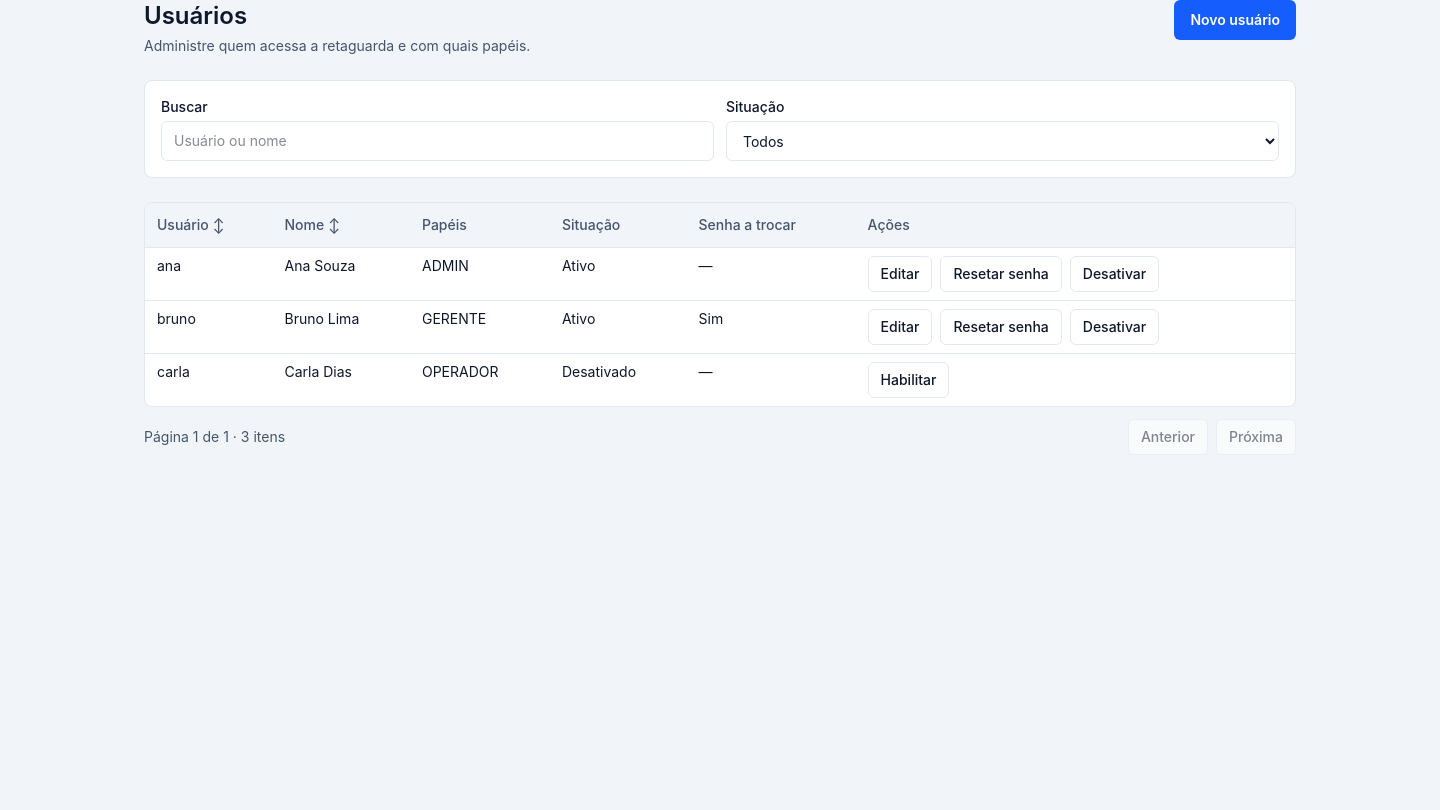
Test case: UsersPage — senha e sessões › exige 8 caracteres no reset e manda a nova senha
Expected: the cell "ana" is shown, [145, 248, 272, 300]
Click the button with aria-label "Resetar senha de ana" at (1001,274), box [940, 256, 1062, 292]
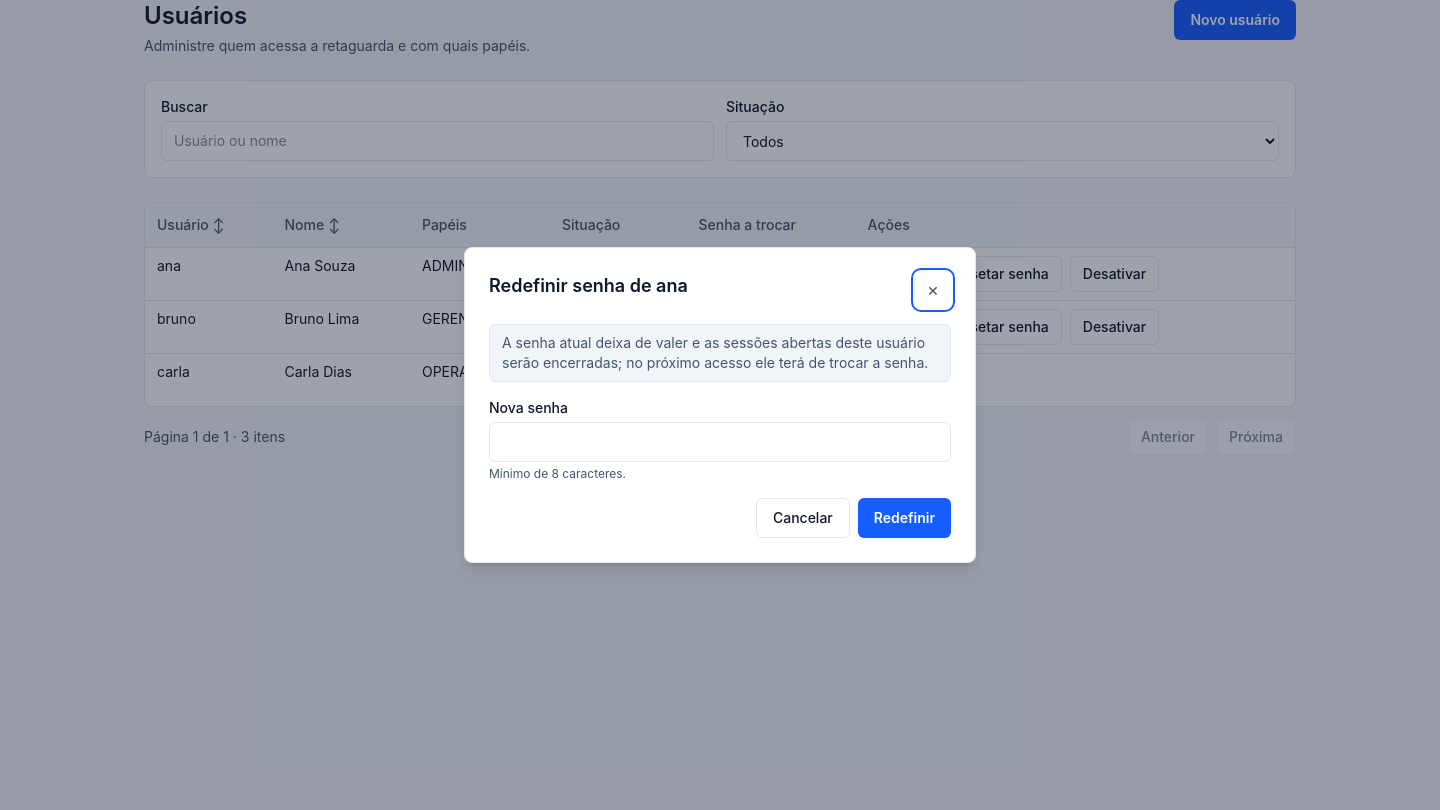
Type "1234567" into the password field labelled "Nova senha" at (720,442), box [489, 422, 951, 462]
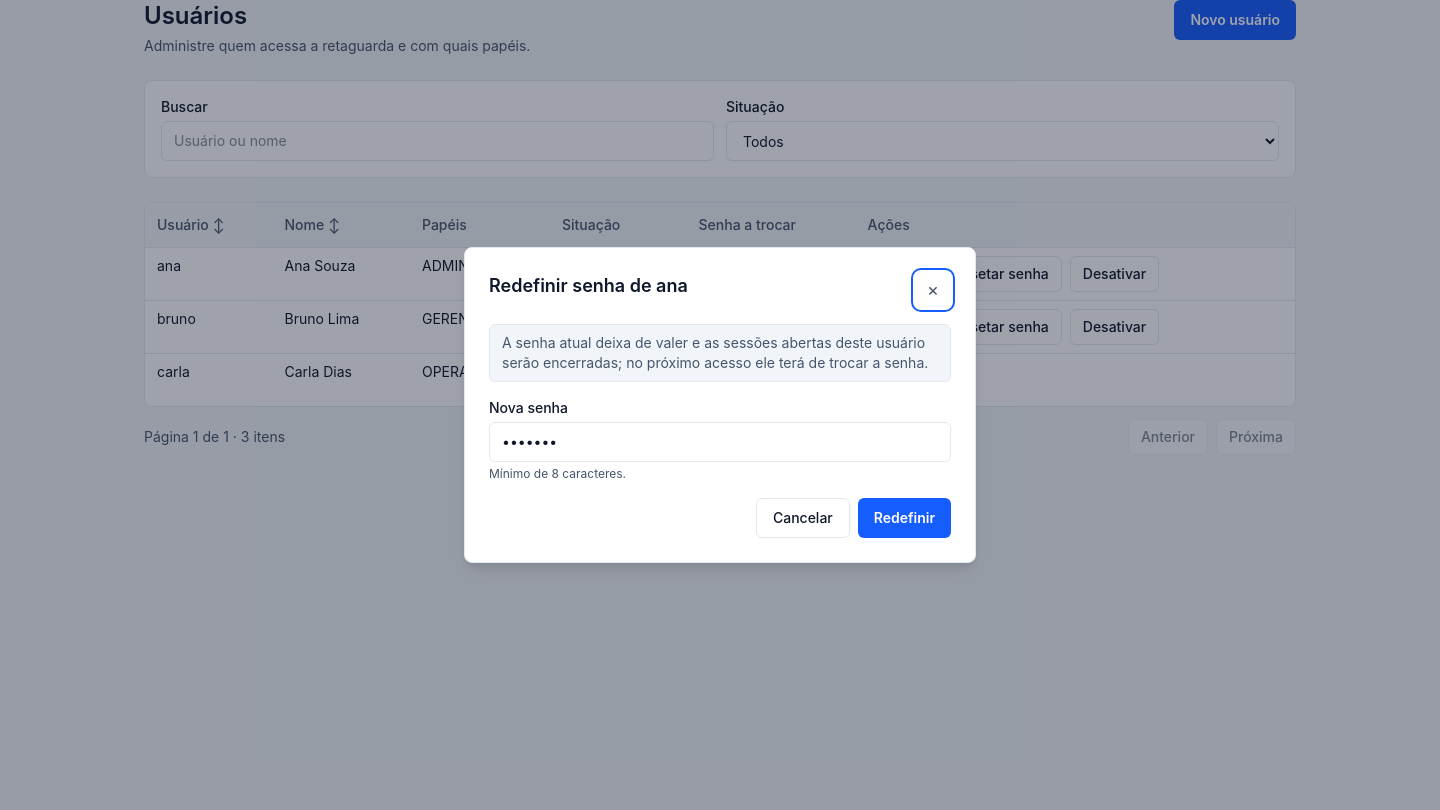
Click the button "Redefinir" at (904,518), box [858, 498, 951, 538]
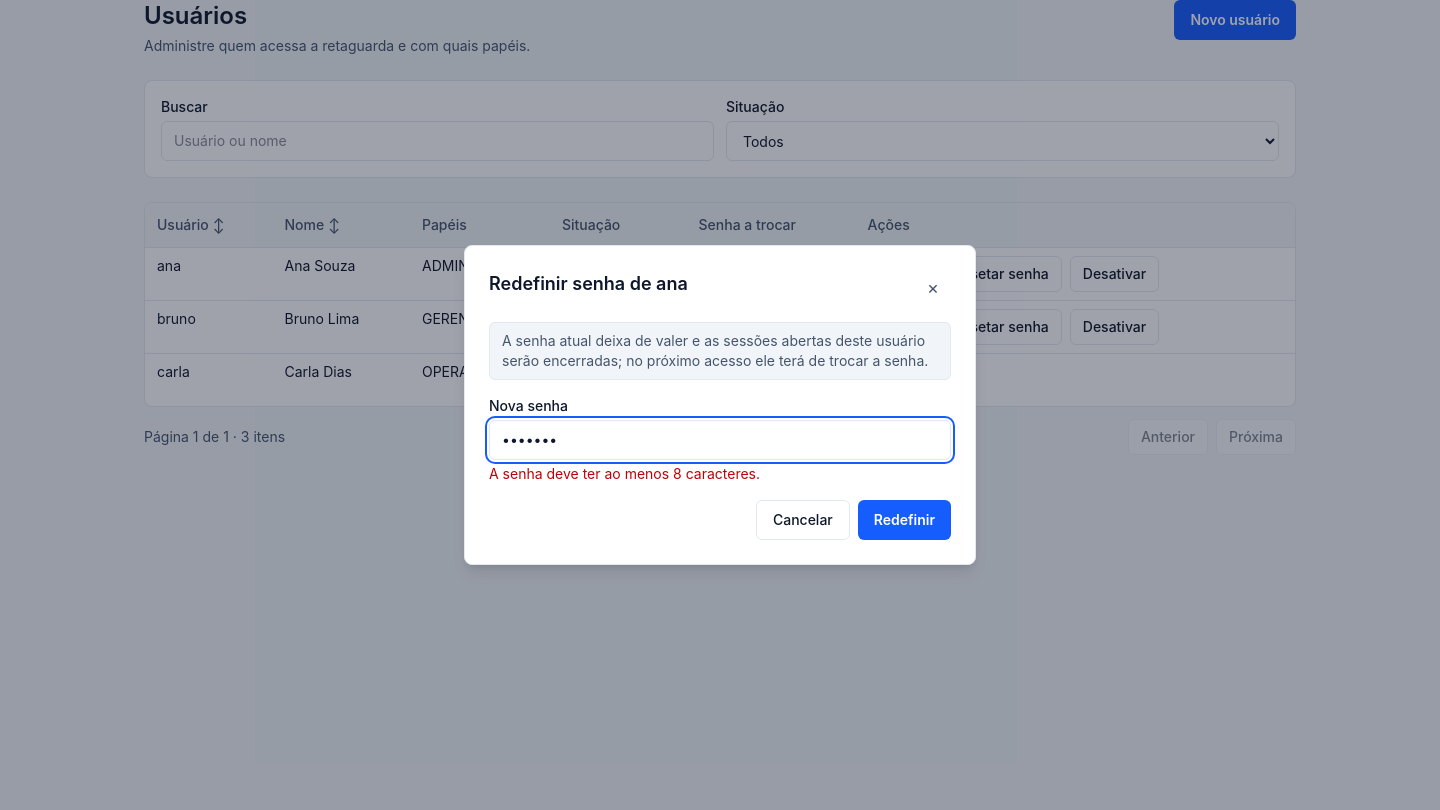
Expected: the text "A senha deve ter ao menos 8 caracteres." is shown, [489, 465, 760, 482]
Type "novasenha1" into the password field labelled "Nova senha" at (720,440), box [489, 420, 951, 460]
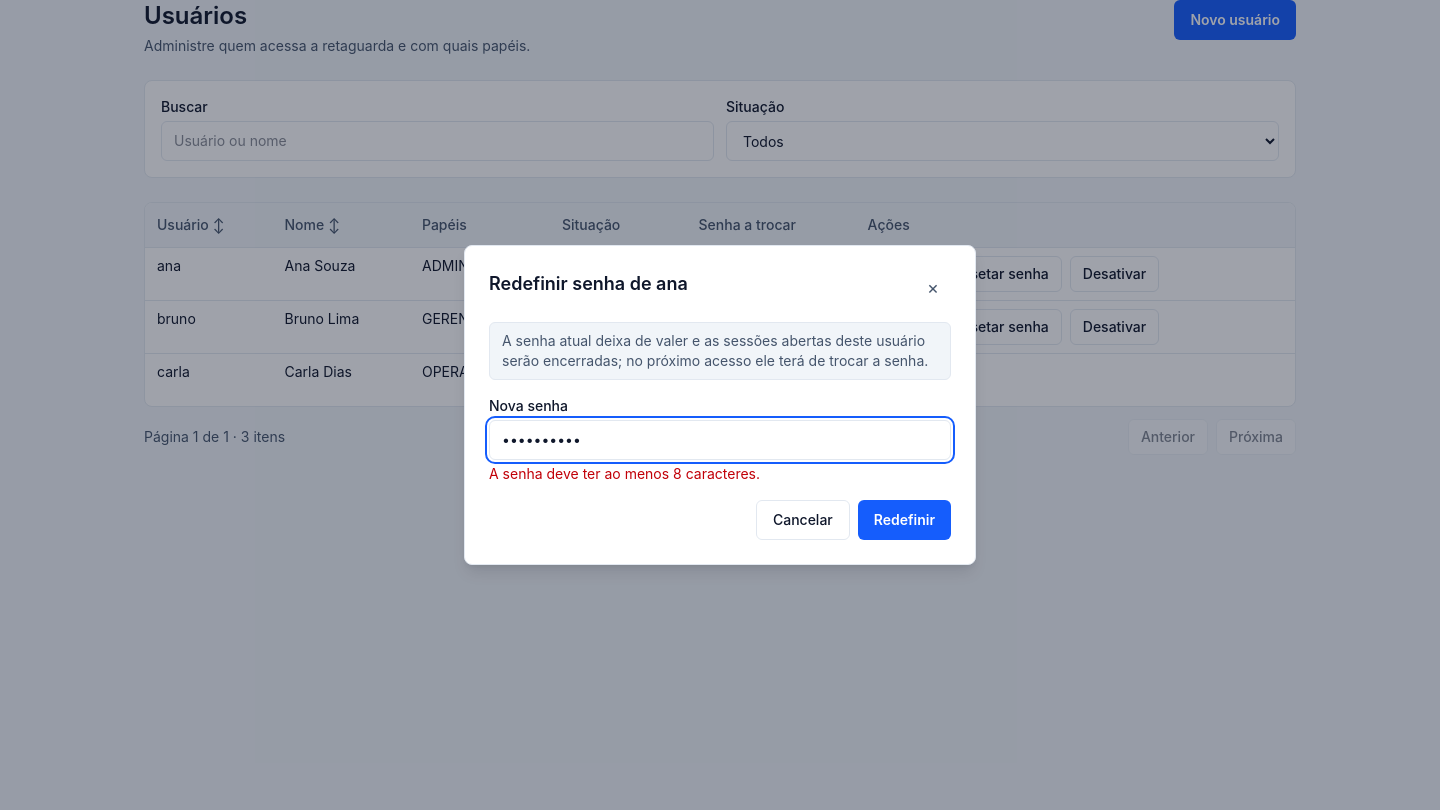
Click the button "Redefinir" at (904,520), box [858, 500, 951, 540]
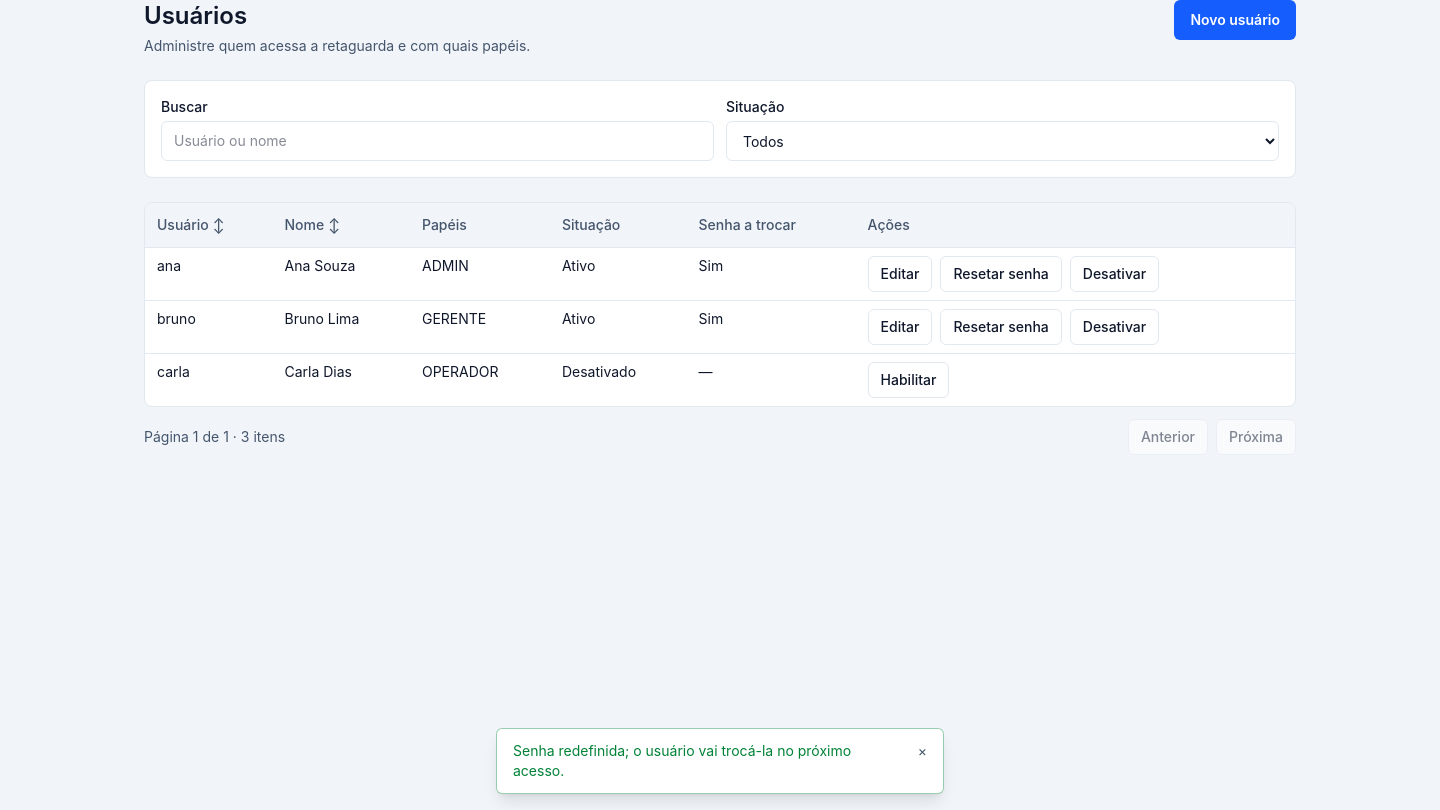
Expected: the dialog is gone
Expected: the text "Senha redefinida; o usuário vai trocá-la no próximo acesso." is shown, [513, 741, 906, 781]
